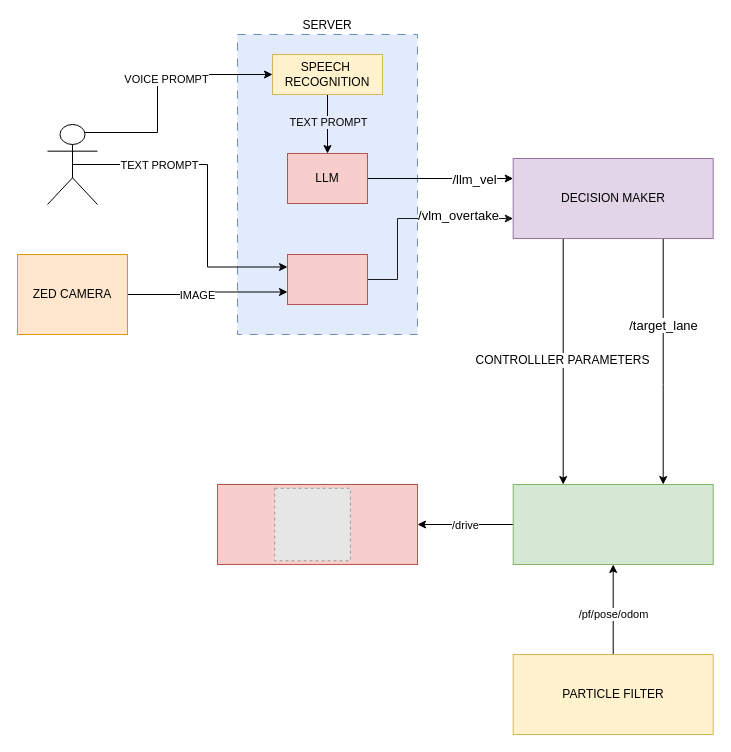
This 731x752 diagram has some shape labels left out. Grey dashed boxes stand in for pictures. Here are the shapes that lost their labels. From the top down, the centre of each, then its label:
At [72,164]: "Actor".
At [327,279]: "VLM".
At [612,524]: "STANLEY CONTROLLER".
